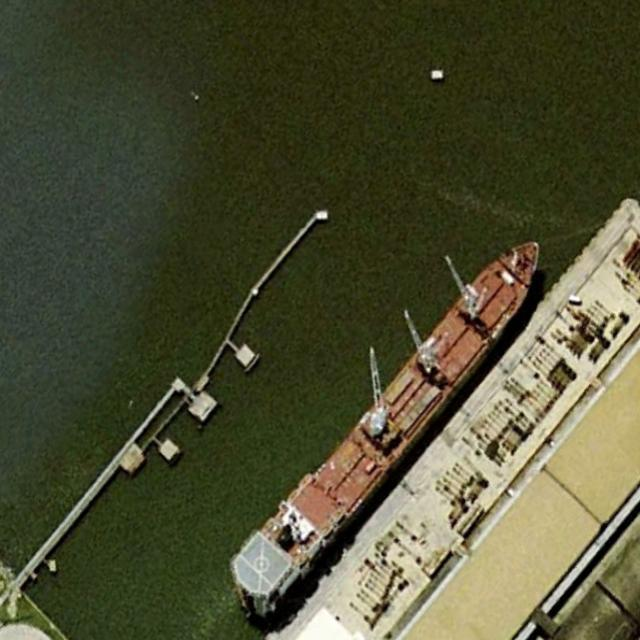Cargo: (220, 213, 563, 621)
